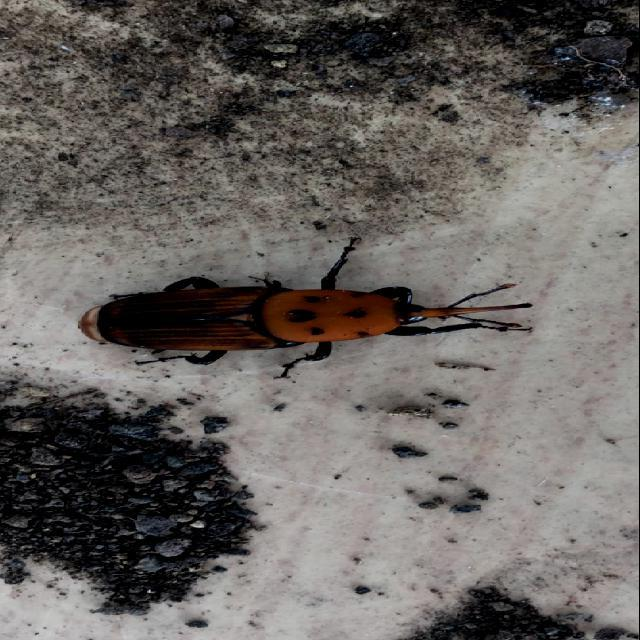Red-palm-weevil: (84, 276, 538, 369)
